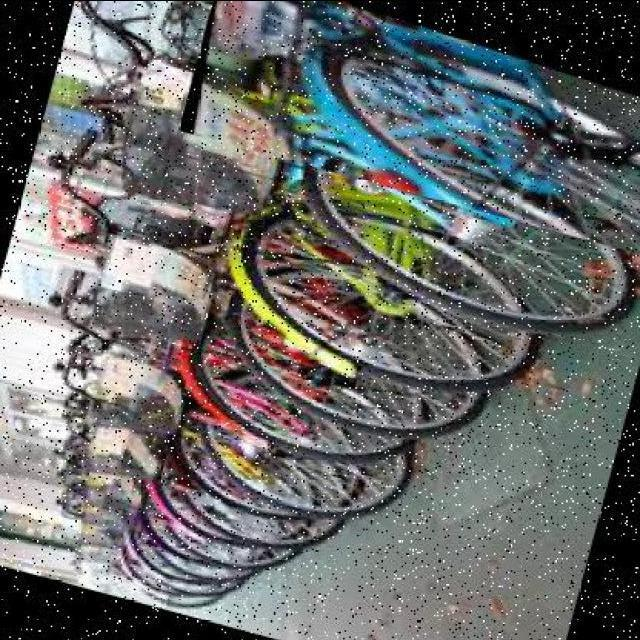bicycle: (178, 2, 640, 264)
